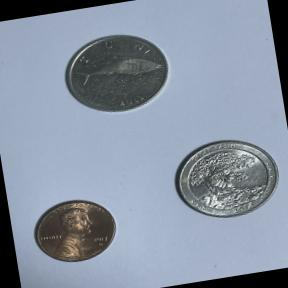coin: (53, 21, 182, 125), (160, 127, 288, 229), (24, 191, 125, 271)
